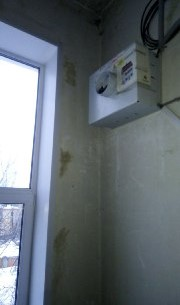shta-3: (82, 38, 166, 131)
